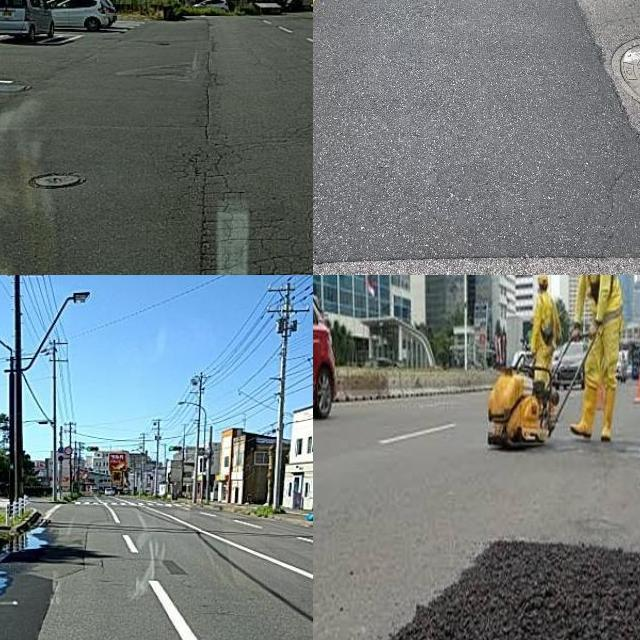Lubang: (25, 166, 84, 192)
Retak Buaya: (199, 148, 313, 275)
Sambungan: (313, 0, 640, 264), (398, 539, 640, 640)
